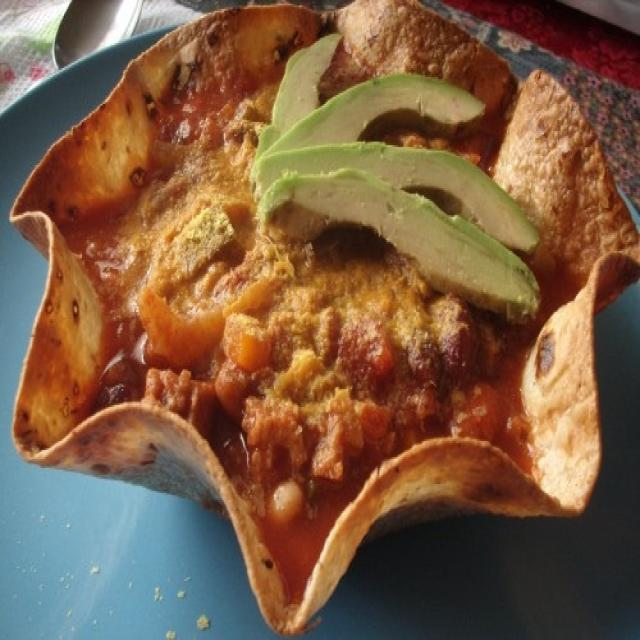面包点心: (21, 20, 602, 620)
